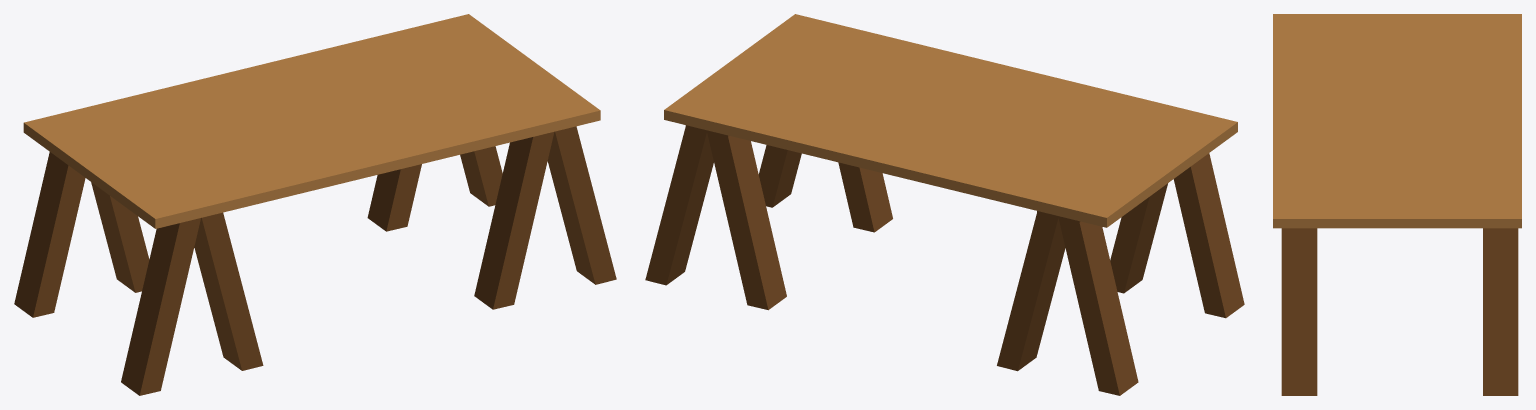
The picture shows the model from 3 angles, left to right: view 1: azimuth 30°, elevation 25°; view 2: azimuth 150°, elevation 25°; view 3: azimuth 270°, elevation 25°; orthographic projection. The views are drawn at different scales.
Visible parts, largest first — view 1: G-7; view 2: G-7; view 3: G-7.
Part boxes in pixels (x1,y1,x2,y2): G-7: [14, 14, 616, 395]; G-7: [645, 14, 1244, 395]; G-7: [1273, 14, 1521, 395].
Bounding box in the file's own units: 566 × 202 × 271.
